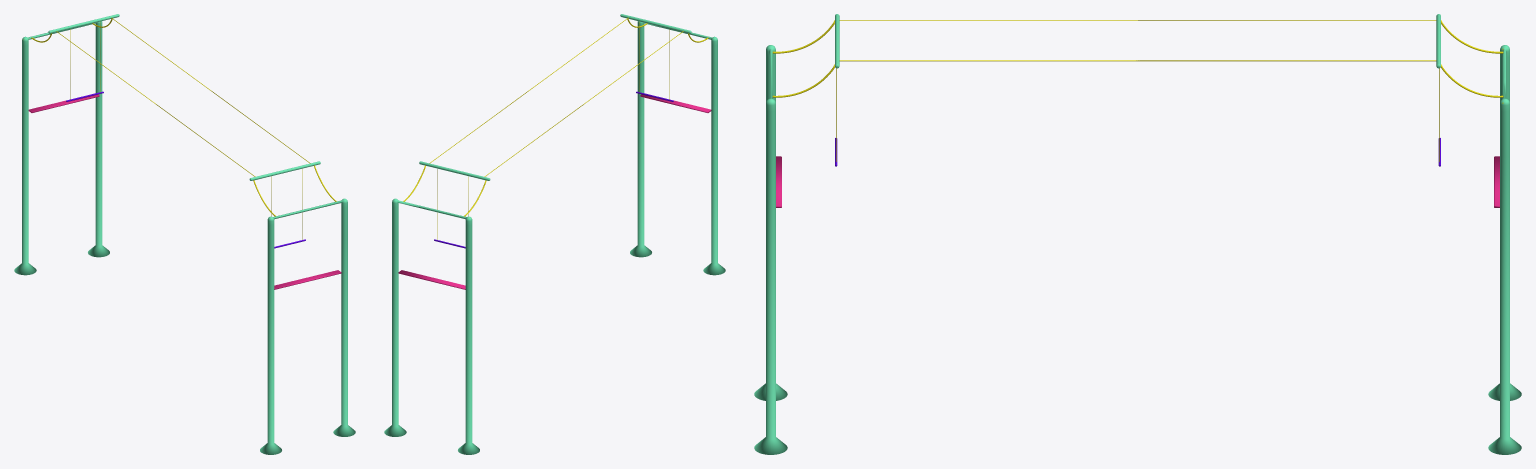
File: Trapeze(Post-Joined v4.1).fbx
3 renders of one model, left to right at view 1: azimuth 30°, elevation 25°; view 2: azimuth 150°, elevation 25°; view 3: azimuth 270°, elevation 25°, orthographic. The views are drawn at different scales.
Visible parts, largest first — view 1: Trapeze; view 2: Trapeze; view 3: Trapeze.
Boxes of the visible parts, box(x1,y1,x2,y2) form: Trapeze: box(14, 14, 355, 454); Trapeze: box(384, 14, 725, 454); Trapeze: box(754, 14, 1521, 454).
Size of the model in its own units: 2150 by 5647 by 10291.
